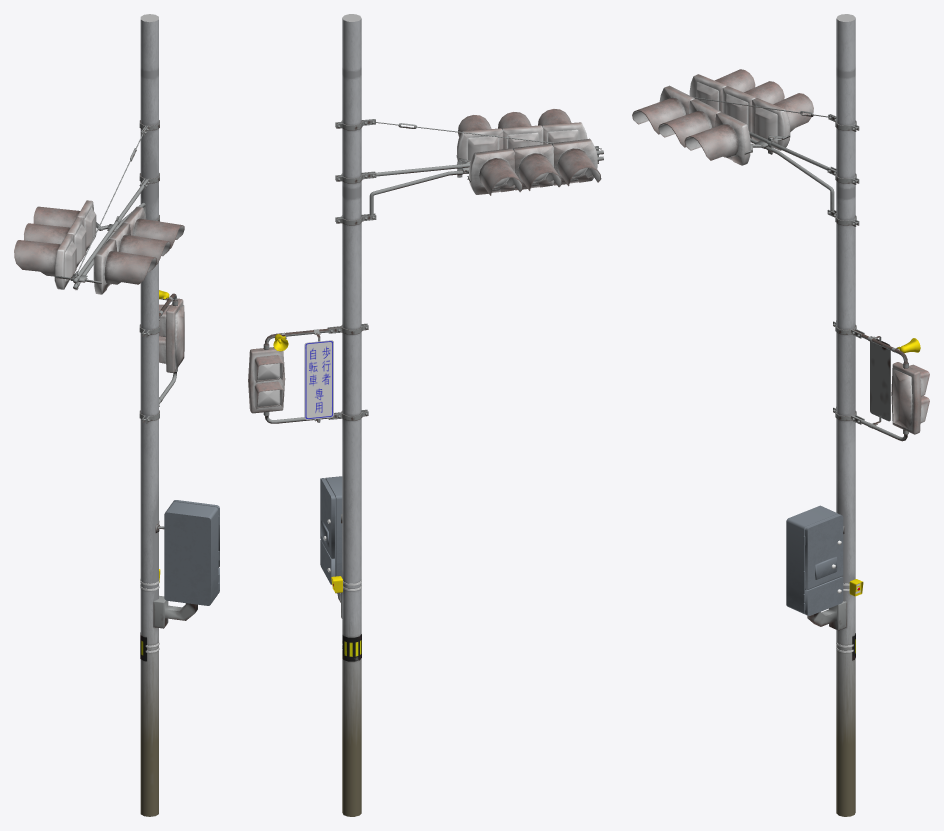
The model's file is 信号_歩行者あり.fbx.
3 renders of one model, left to right at view 1: azimuth 30°, elevation 25°; view 2: azimuth 150°, elevation 25°; view 3: azimuth 270°, elevation 25°, orthographic.
Visible parts, largest first — view 1: 柱, 信号_自動車, 制御器, 信号_歩行者; view 2: 柱, 信号_自動車, 信号_歩行者, 制御器; view 3: 柱, 信号_自動車, 制御器, 信号_歩行者.
Boxes of the visible parts, bbox=[...] form: 柱: bbox=[140, 14, 158, 816]; 信号_自動車: bbox=[14, 120, 184, 294]; 制御器: bbox=[153, 500, 219, 628]; 信号_歩行者: bbox=[139, 290, 184, 423]; 柱: bbox=[342, 14, 361, 816]; 信号_自動車: bbox=[335, 109, 603, 225]; 信号_歩行者: bbox=[248, 323, 368, 423]; 制御器: bbox=[320, 476, 342, 618]; 柱: bbox=[836, 14, 855, 816]; 信号_自動車: bbox=[632, 69, 859, 226]; 制御器: bbox=[786, 505, 846, 630]; 信号_歩行者: bbox=[833, 320, 929, 441].
Bounding box in the file's own units: 309 × 900 × 306.
